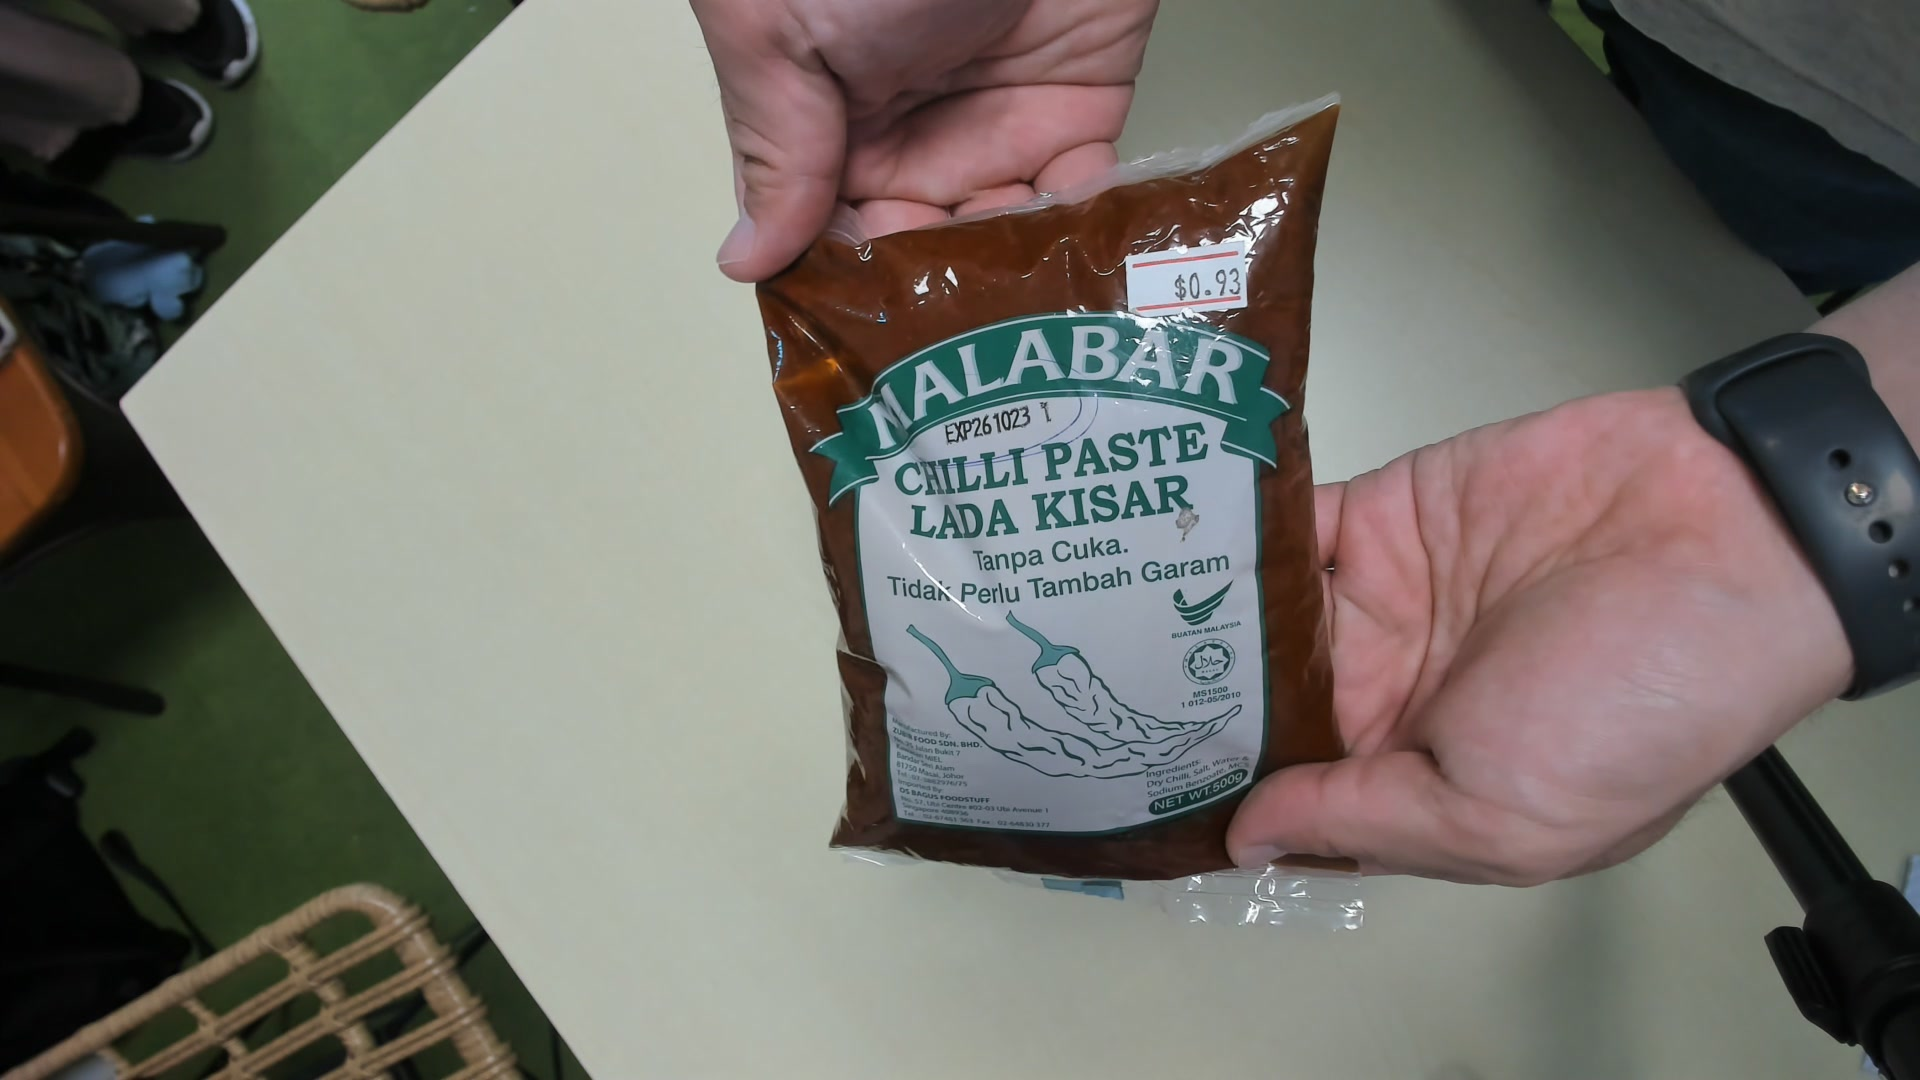OtherSauceDressingSoupbasePaste_500-599g_Halal_NonHealthy: (756, 103, 1357, 926)
